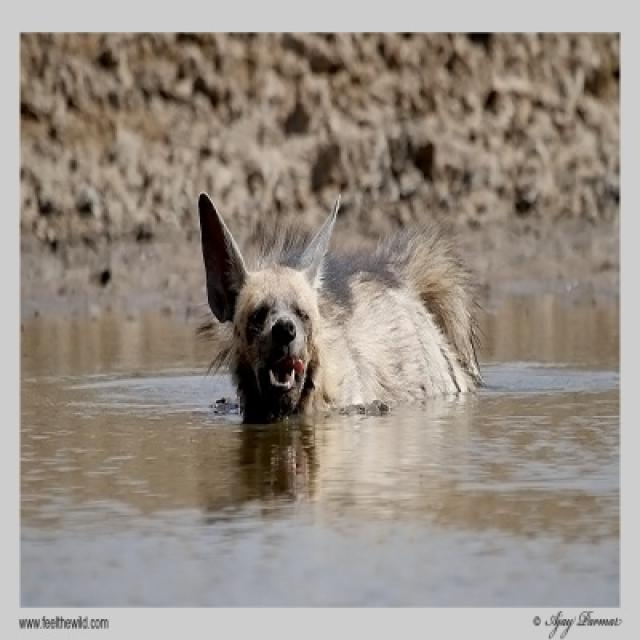hyena: (198, 195, 482, 422)
